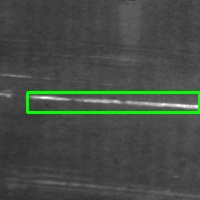scratches: (27, 92, 199, 112)
